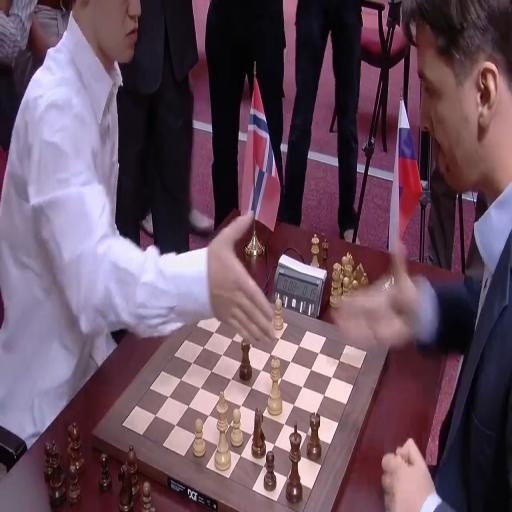nao-violencia: (0, 0, 512, 438)
